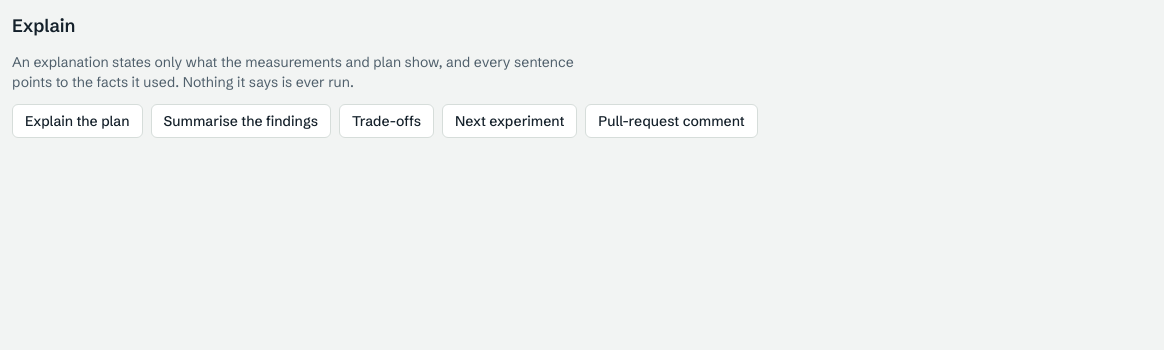
Test: ExplainPanel › labels a validated language-model explanation with the model
Click the button "Explain the plan". click: [77, 121]
box: [12,104,142,138]
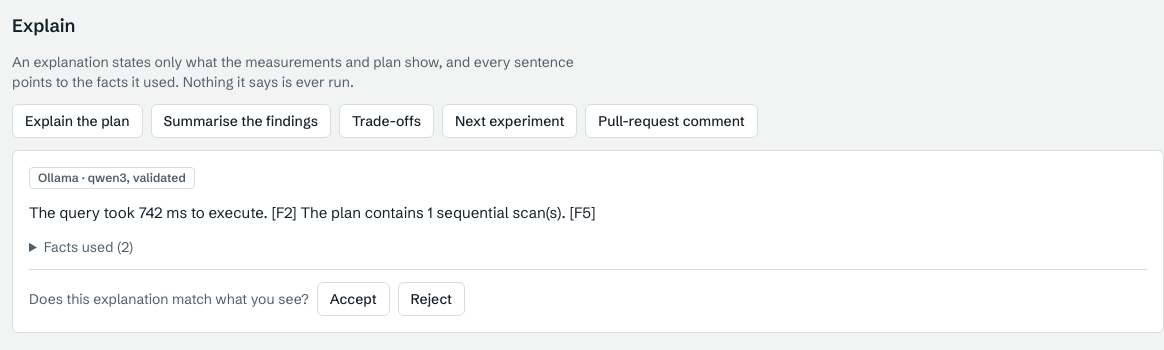
Now the text "Ollama · qwen3, validated" is shown, box [29,167,195,189]
